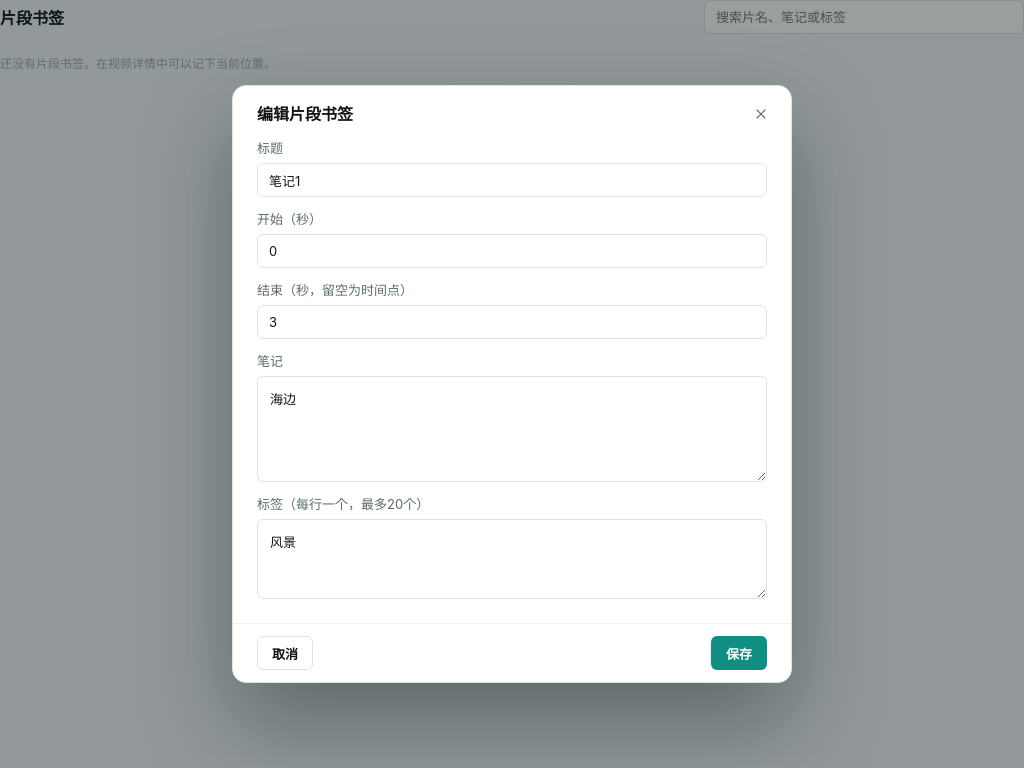
Test: BookmarkPanel › rejects fractional milliseconds and deletes only the selected record revision
Replace the text in the number field with test id "bookmark-start" with "0.0001". click: (512, 251)
box: [257,234,767,268]
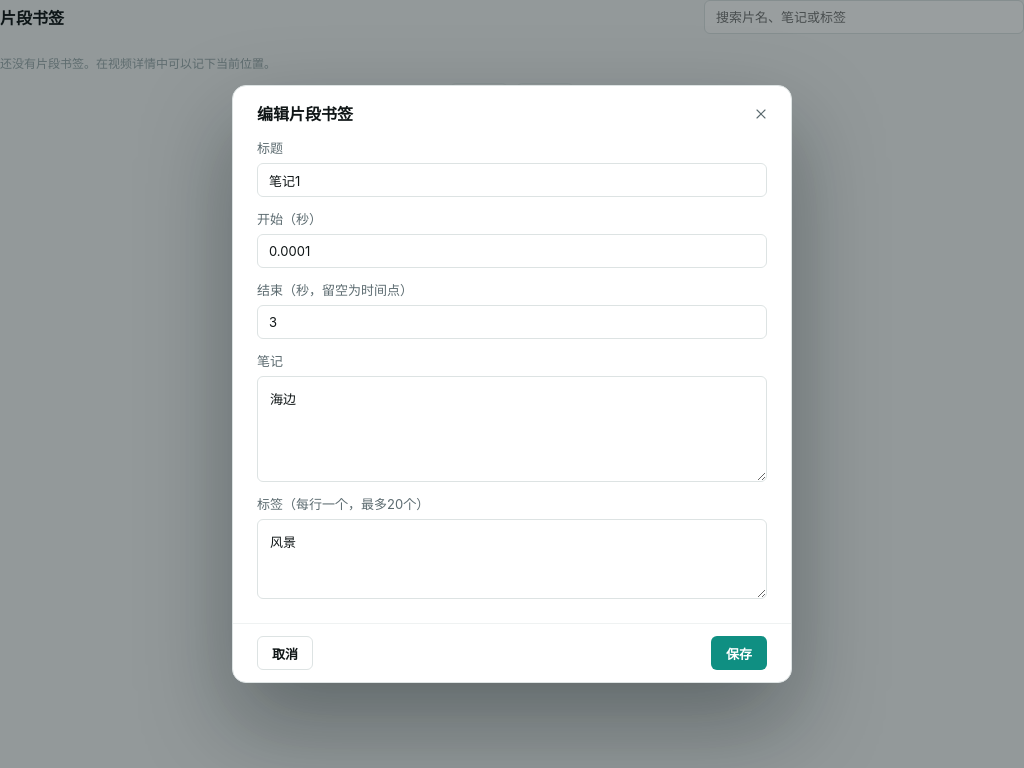
Submit the form, box [257,138,767,599]
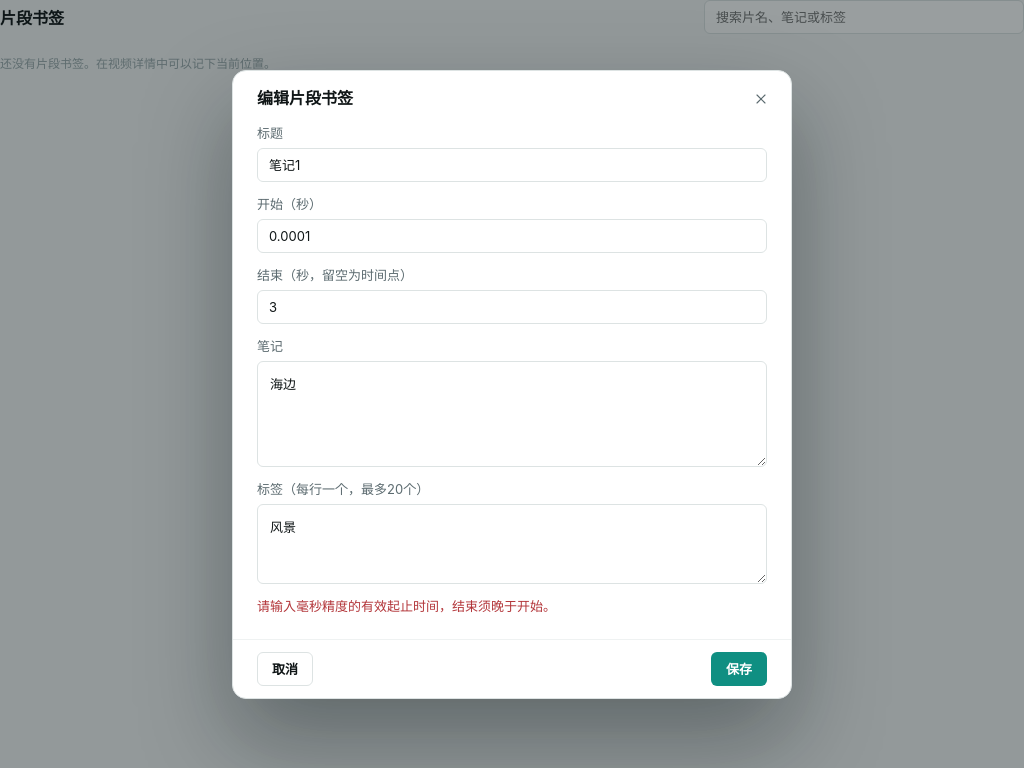
expect the text "毫秒精度" is shown: met, box [257,598,556,614]
